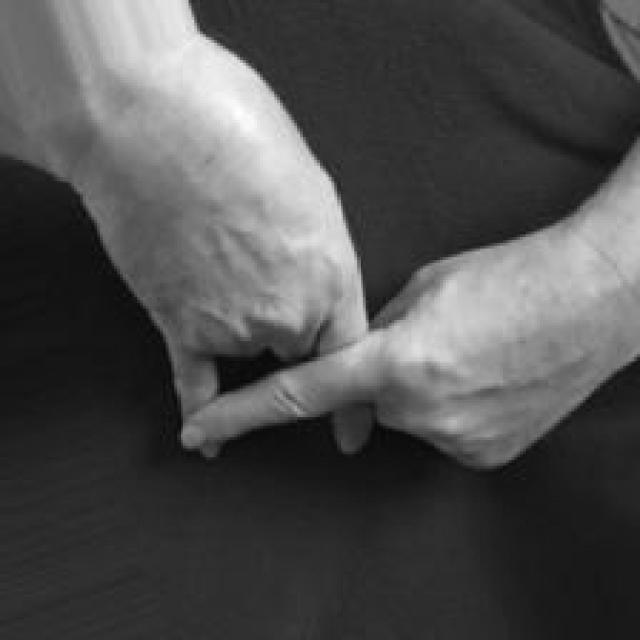H: (76, 67, 640, 471)
